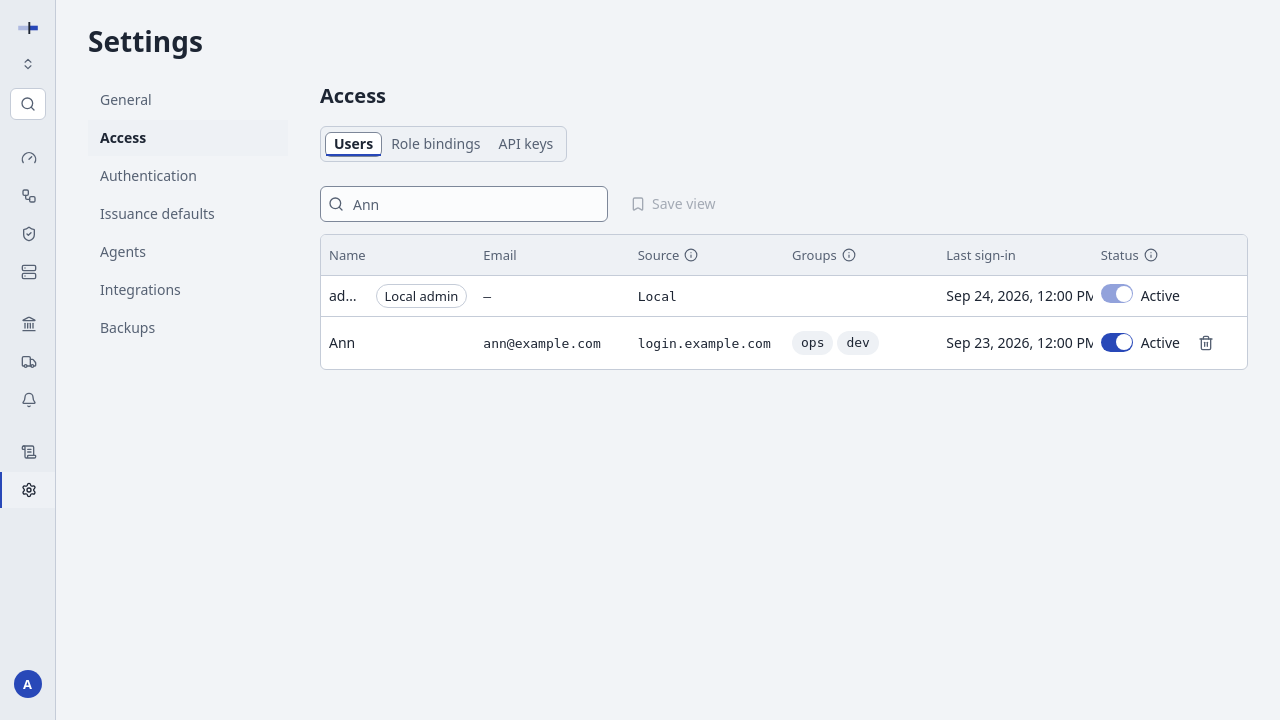
Test case: shows a 409 inline and leaves the switch untouched
Click the switch named "Ann active".
click(1117, 342)  # box [1101, 333, 1133, 352]
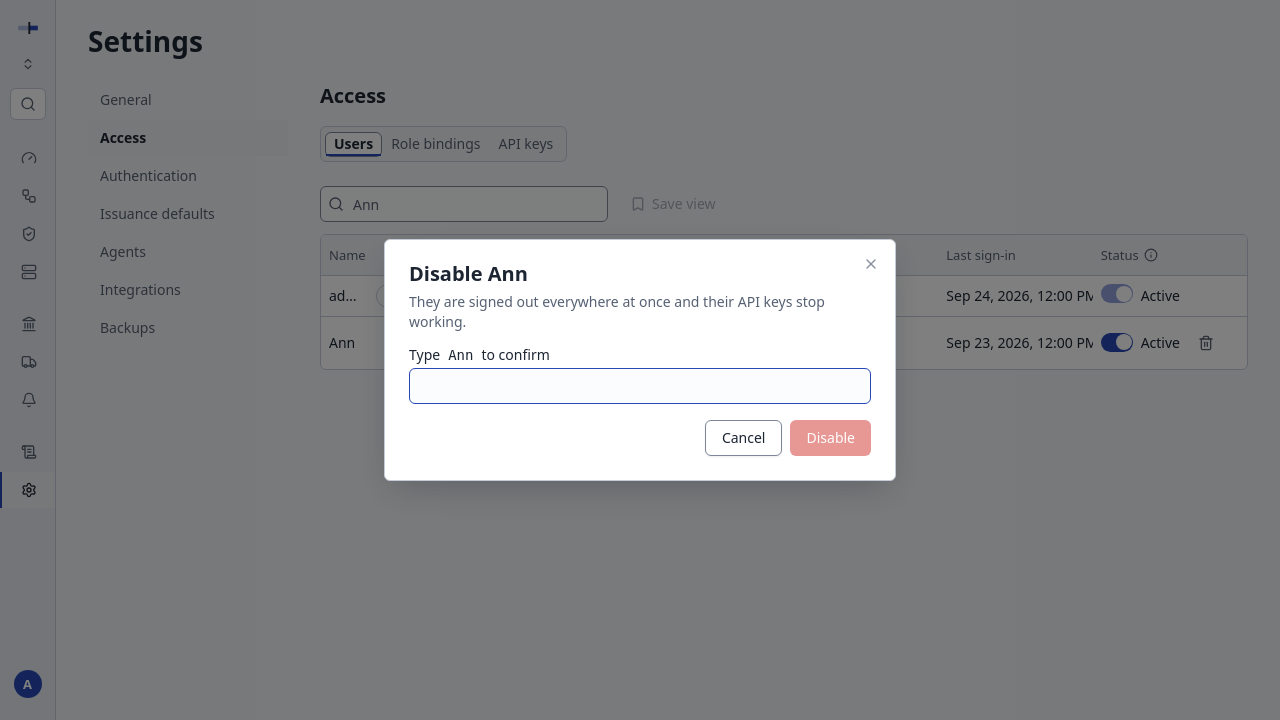
Type "Ann" into the field.
click(640, 386); type("Ann")  # box [409, 368, 871, 404]
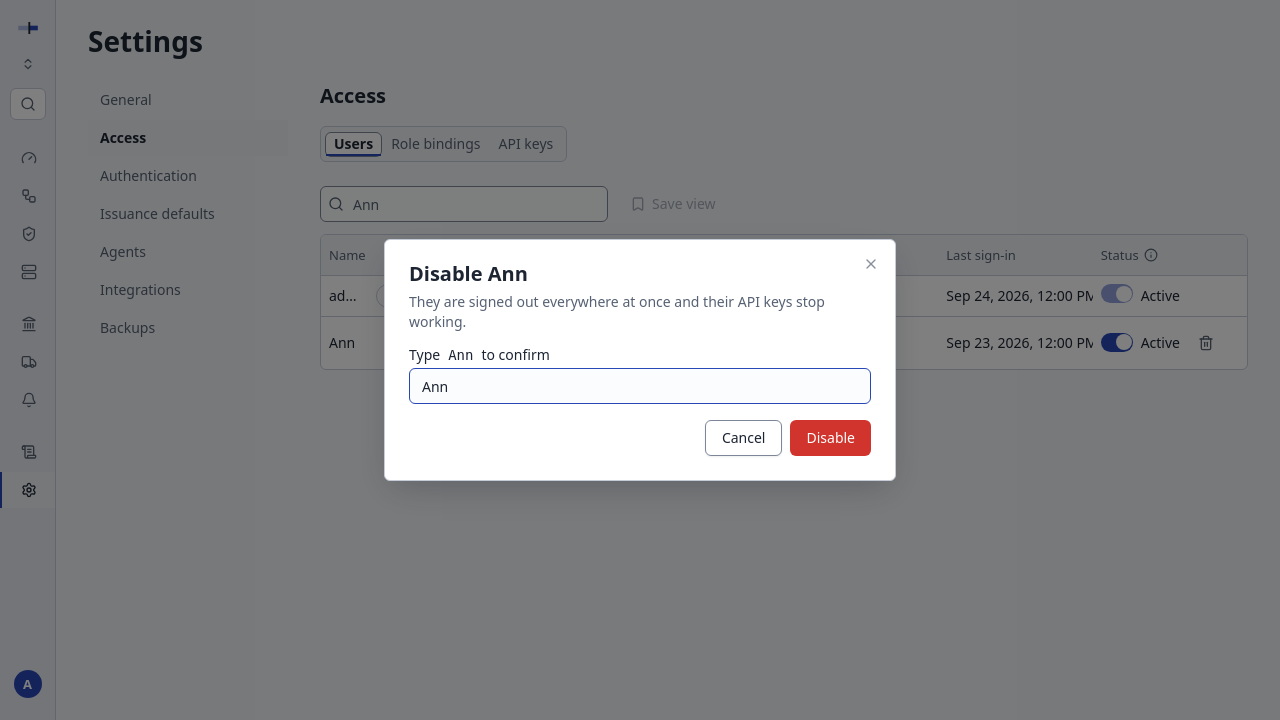
Click the button "Disable".
click(831, 438)  # box [790, 420, 871, 456]
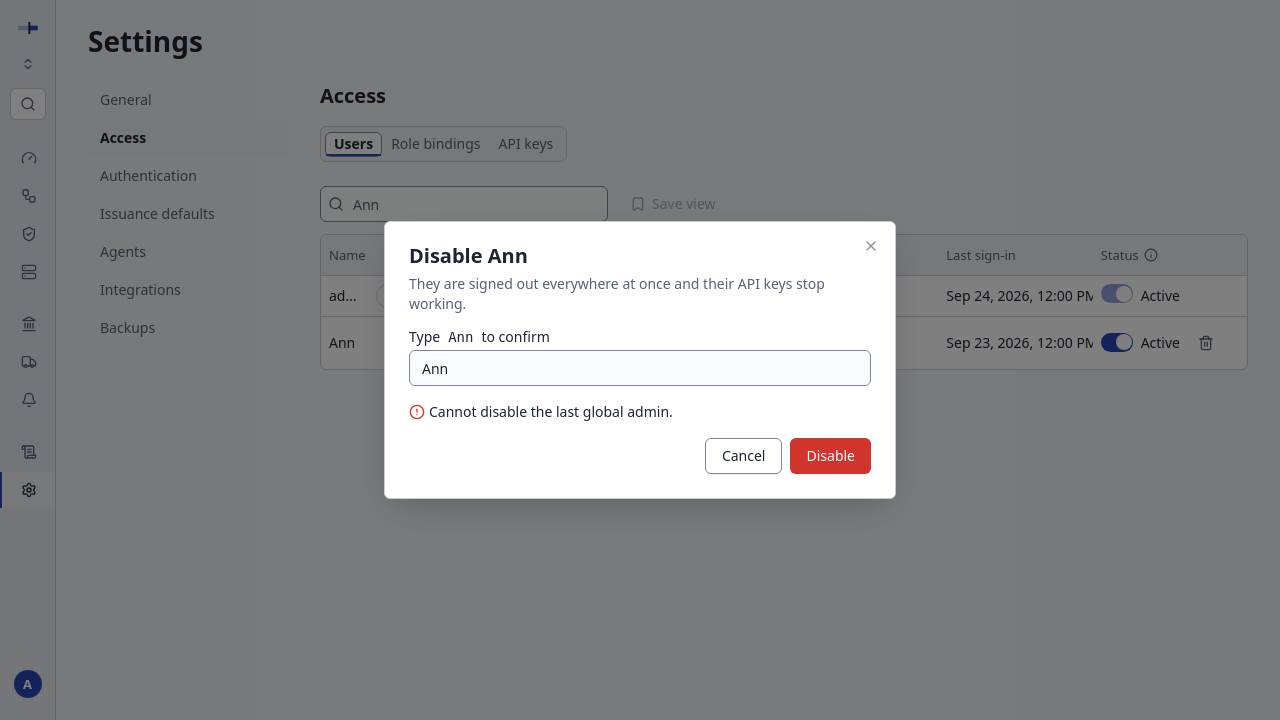
Check: the switch named "Ann active" is checked, box [1101, 333, 1133, 352]
Check: the dialog "Disable Ann" is shown, box [384, 221, 896, 499]
Check: the message reads "Cannot disable the last global admin.", box [429, 402, 673, 421]
